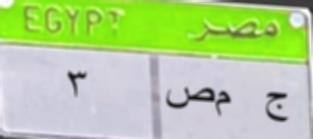3: (64, 66, 90, 104)
jeem: (263, 89, 291, 126)
meem: (214, 90, 234, 120)
saad: (162, 82, 214, 115)
